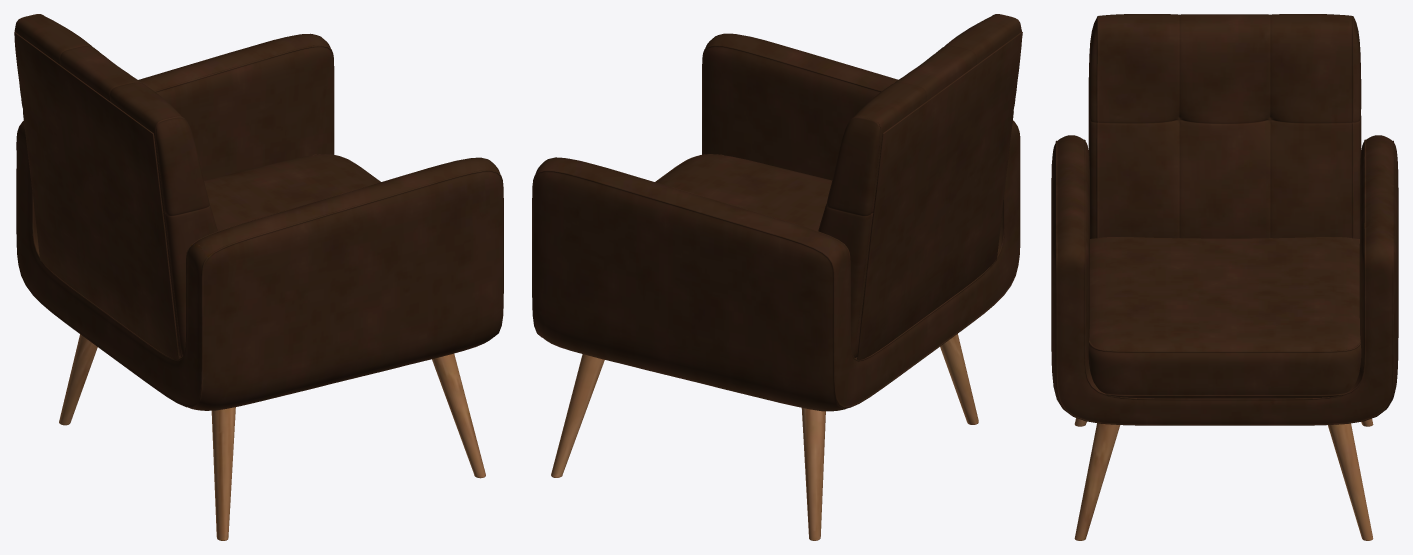
The model's file is armchair__leather-transformed.glb.
3 renders of one model, left to right at view 1: azimuth 30°, elevation 25°; view 2: azimuth 150°, elevation 25°; view 3: azimuth 270°, elevation 25°, orthographic. The views are drawn at different scales.
Visible parts, largest first — view 1: Plane.001; view 2: Plane.001; view 3: Plane.001.
Part boxes in pixels (<box>): Plane.001: <box>14,14,503,540</box>; Plane.001: <box>532,14,1022,540</box>; Plane.001: <box>1051,14,1398,540</box>.
Bounding box in the file's own units: 0.6988 × 0.856 × 0.6962.
Materials: 1 (1 with a texture image).
